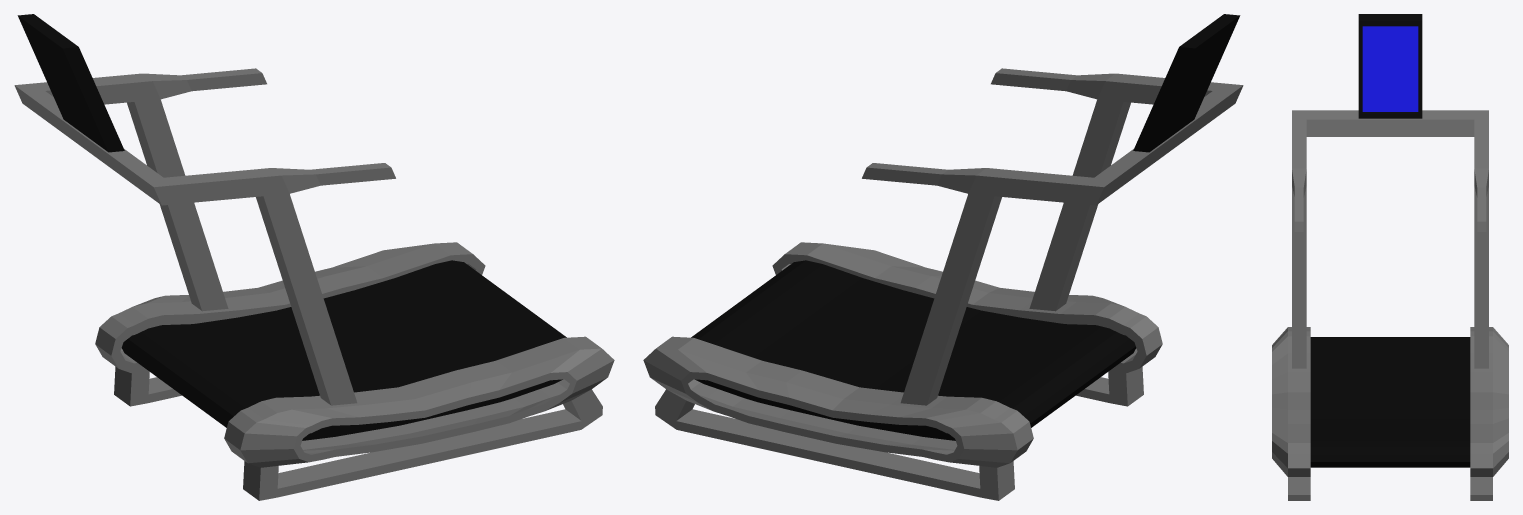
The model's file is RunnerTreadmill.001.fbx.
3 views of the same model, side by side, from view 1: azimuth 30°, elevation 25°; view 2: azimuth 150°, elevation 25°; view 3: azimuth 270°, elevation 25° (orthographic). The views are drawn at different scales.
Parts seen in each view (by area): view 1: RunnerTreadmill.001; view 2: RunnerTreadmill.001; view 3: RunnerTreadmill.001.
Part boxes in pixels (bbox=[...]): RunnerTreadmill.001: bbox=[14, 14, 614, 500]; RunnerTreadmill.001: bbox=[643, 14, 1243, 500]; RunnerTreadmill.001: bbox=[1272, 14, 1508, 500].
Bounding box in the file's own units: 179 × 157 × 104.
